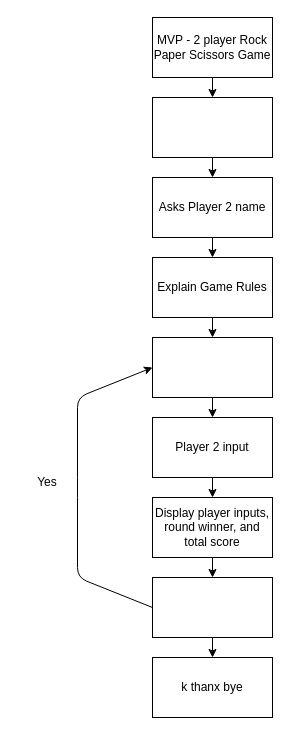
The diagram is 290 pixels wide and 735 high, and some of its shapes have lost their labels. The centre of each missing label's shape, as x and y in pixels:
Asks Player 1 name: point (212, 127)
continue playing?: point (212, 607)
Player 1 input: point (212, 367)
